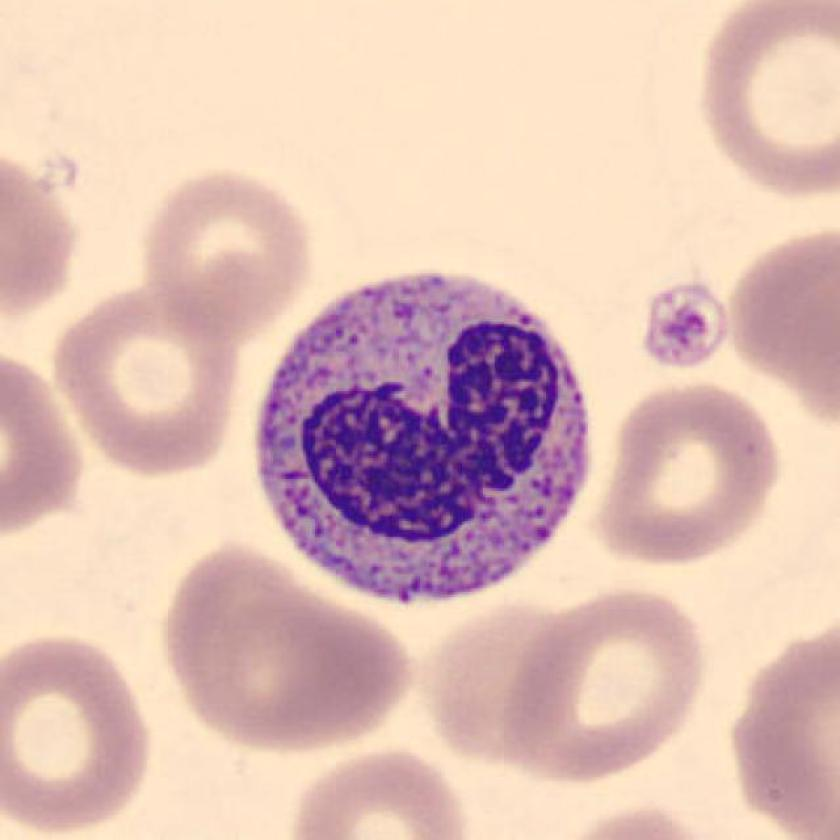neutrophil: (257, 271, 589, 593)
